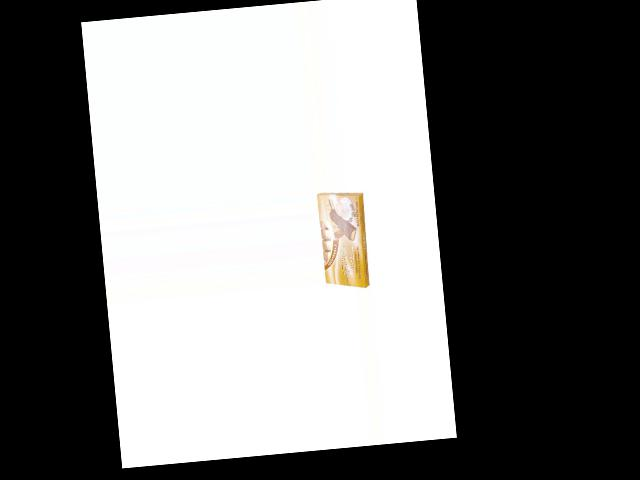chocolate: (316, 188, 372, 293)
